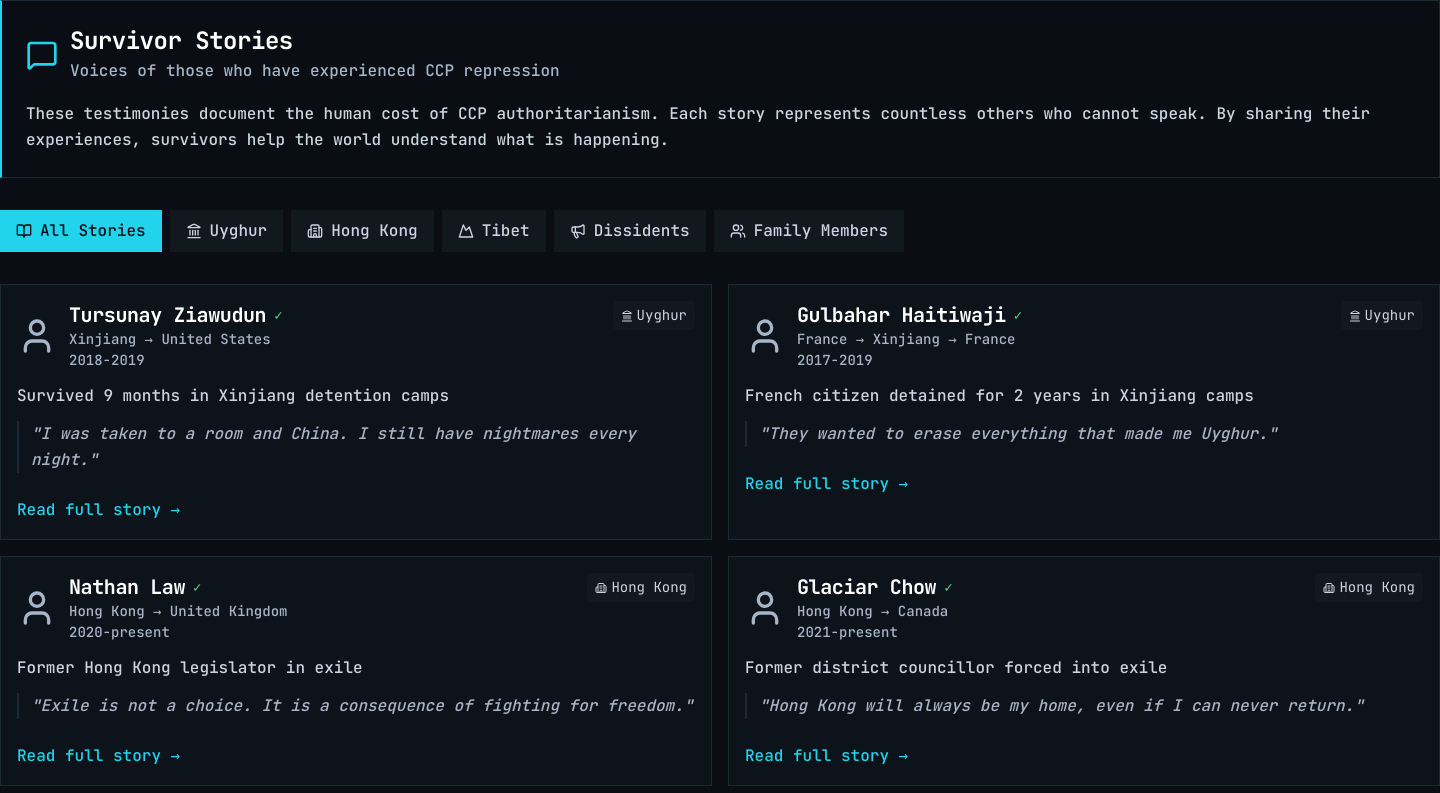
Test case: SurvivorStories › filters stories by Uyghur category
This screenshot has width=1440, height=793.
Click the tab "Uyghur" at (226, 231), box left=170, top=210, right=283, bottom=252
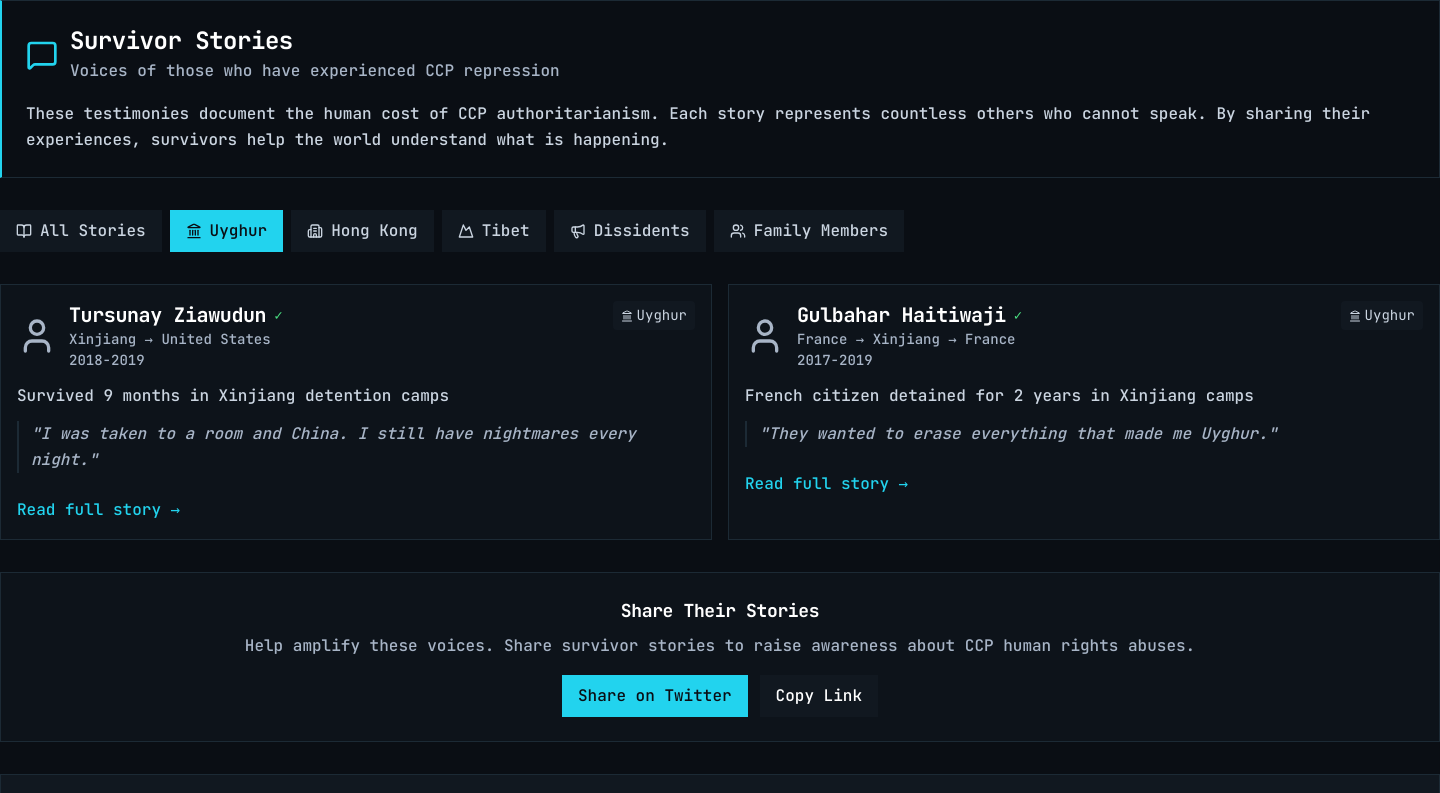
expect the heading "Tursunay Ziawudun" is shown: met, box left=69, top=301, right=266, bottom=329
expect the heading "Nathan Law" is gone: met
